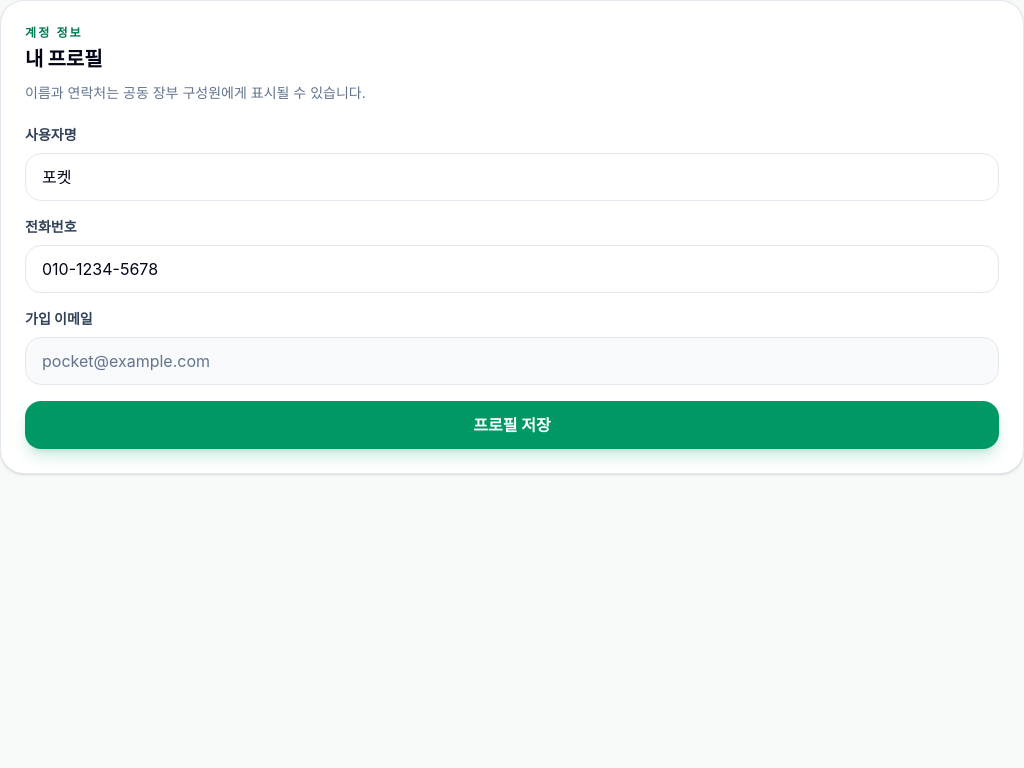
Test: profile settings forms › shows saved name and formatted phone while keeping the enrollment email outside submitted data
Expected: the field labelled "사용자명" holds "포켓", x1=25 y1=153 x2=999 y2=201
Expected: the field labelled "전화번호" holds "010-1234-5678", x1=25 y1=245 x2=999 y2=293
Click the button "프로필 저장".
click(512, 425)  # box x1=25 y1=401 x2=999 y2=449
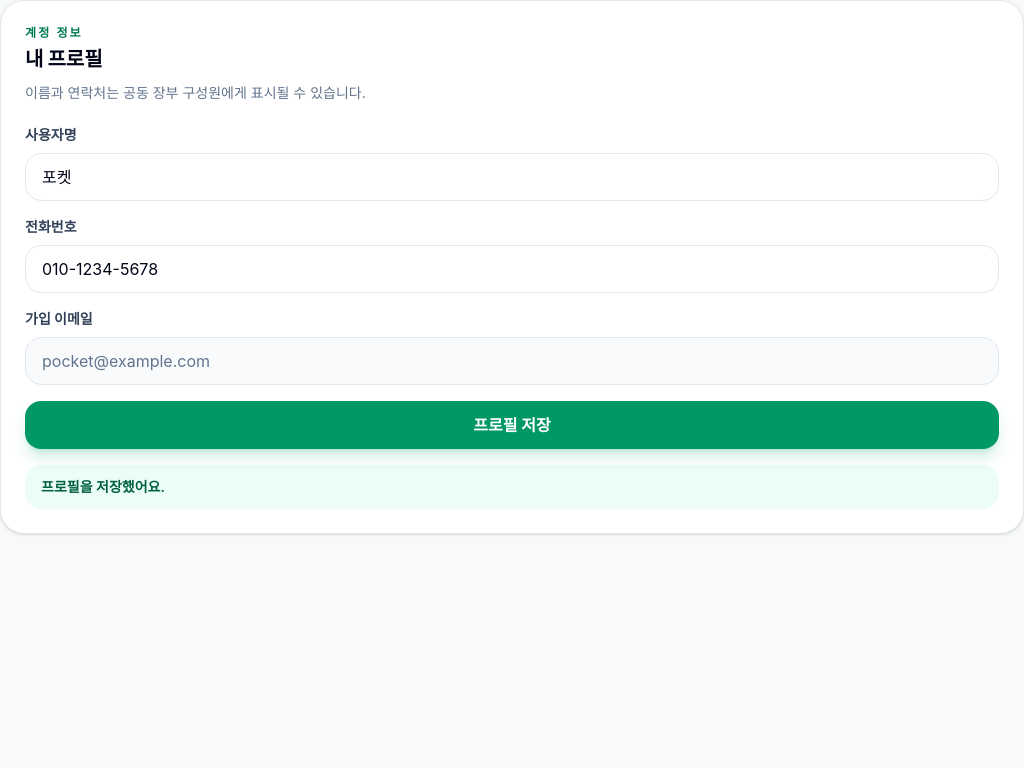
Expected: the message reads "프로필을 저장했어요.", x1=41 y1=478 x2=165 y2=495
